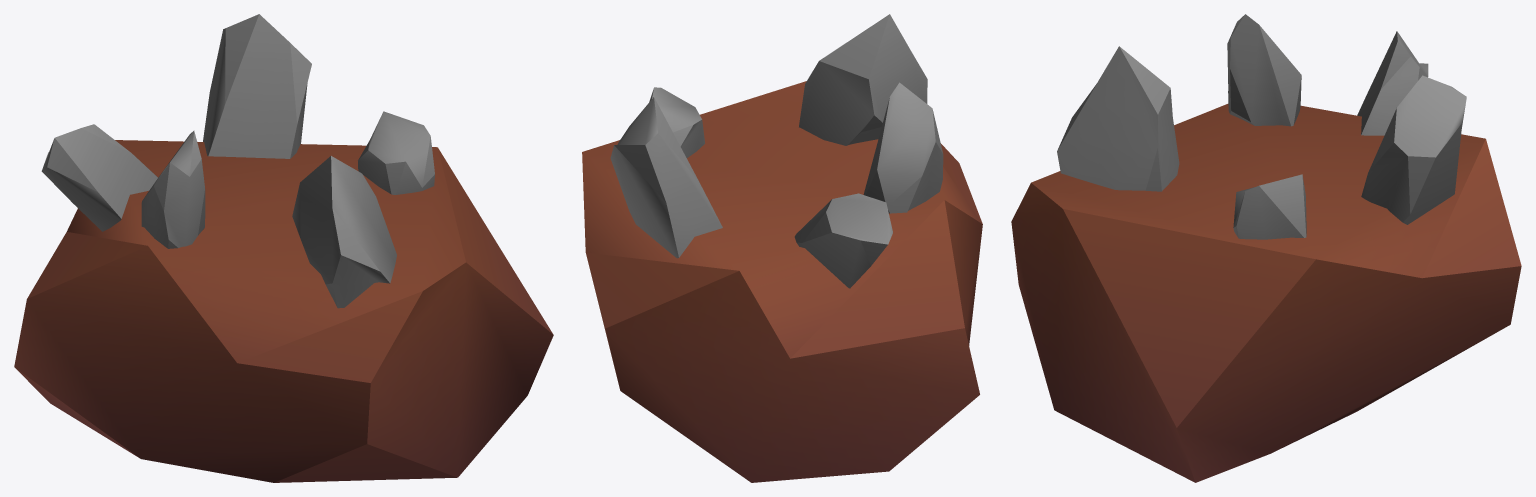
Rendered from Iron_Rock.glb.
The picture shows the model from 3 angles, left to right: view 1: azimuth 30°, elevation 25°; view 2: azimuth 150°, elevation 25°; view 3: azimuth 270°, elevation 25°; orthographic projection.
Visible parts, largest first — view 1: IronOre_Geo; view 2: IronOre_Geo; view 3: IronOre_Geo.
Part boxes in pixels (bbox=[...]): IronOre_Geo: bbox=[14, 14, 553, 482]; IronOre_Geo: bbox=[582, 14, 982, 482]; IronOre_Geo: bbox=[1011, 14, 1521, 482].
Bounding box in the file's own units: 0.0468 × 0.033 × 0.0458.
Materials: 1 (1 with a texture image).
